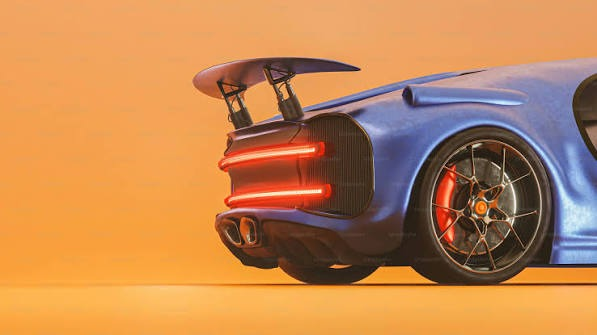car: (178, 33, 579, 284)
